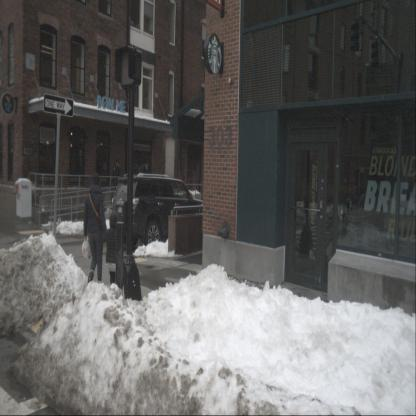human-pedestrian-adult: (81, 172, 107, 292), (112, 159, 121, 204)
vehicle-car: (109, 173, 208, 250)
